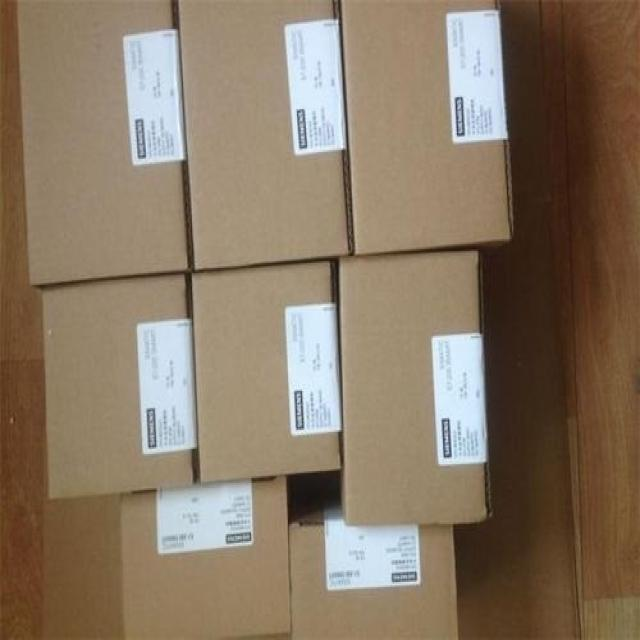box: (14, 0, 190, 289), (173, 1, 353, 270), (337, 241, 493, 527), (337, 1, 513, 254), (42, 270, 197, 499), (190, 256, 342, 484), (287, 469, 459, 638), (121, 475, 290, 637)
